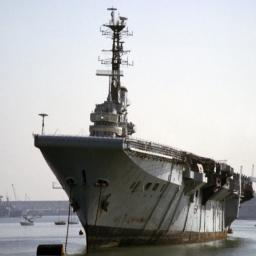Portanaves: (34, 6, 250, 253)
